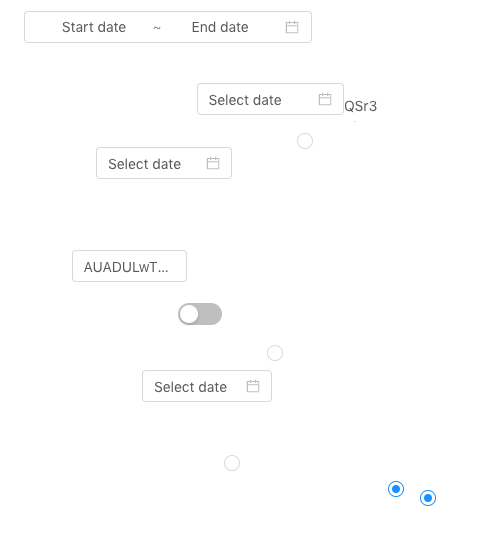DatePicker: (197, 83, 344, 115), (96, 147, 232, 179), (142, 370, 272, 402)
Input: (72, 250, 187, 282)
Radio: (388, 478, 404, 498), (297, 130, 313, 150), (267, 342, 283, 362), (420, 487, 436, 507), (224, 452, 240, 472)
RangePicker: (24, 11, 312, 43)
Switch: (178, 302, 222, 326)
Text: (344, 95, 384, 122)
